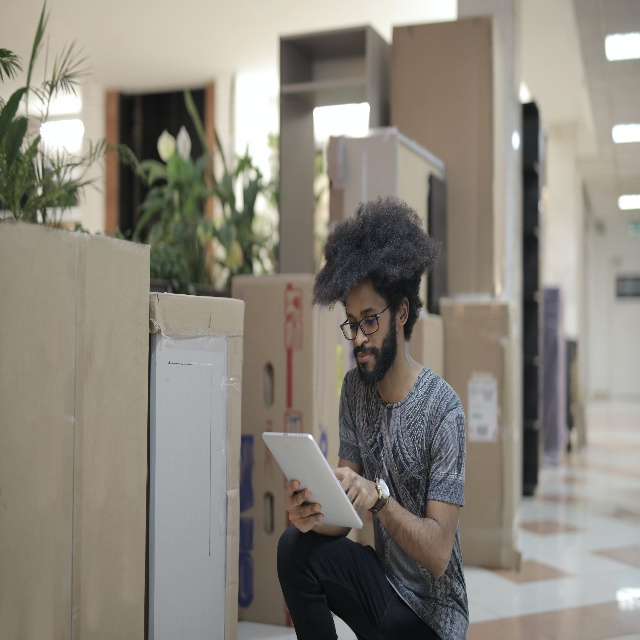Gafas: (340, 302, 393, 341)
Sin_guantes: (331, 465, 378, 512), (285, 479, 325, 533)
